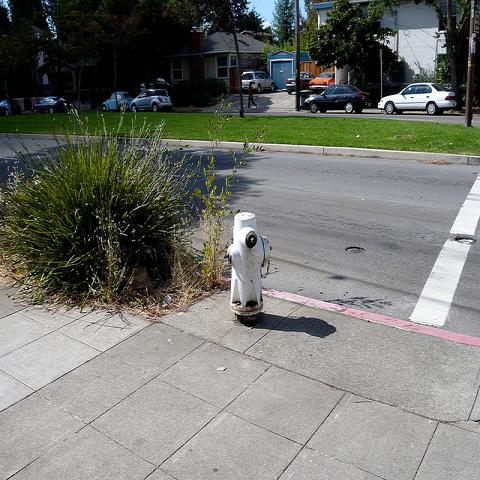car: (378, 80, 456, 116), (303, 84, 371, 114), (130, 88, 173, 113), (32, 95, 79, 114), (241, 70, 276, 92), (102, 92, 134, 112), (286, 72, 315, 94), (309, 73, 335, 90), (0, 99, 22, 115)
